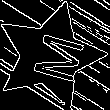M_W: (18, 27, 82, 85)
